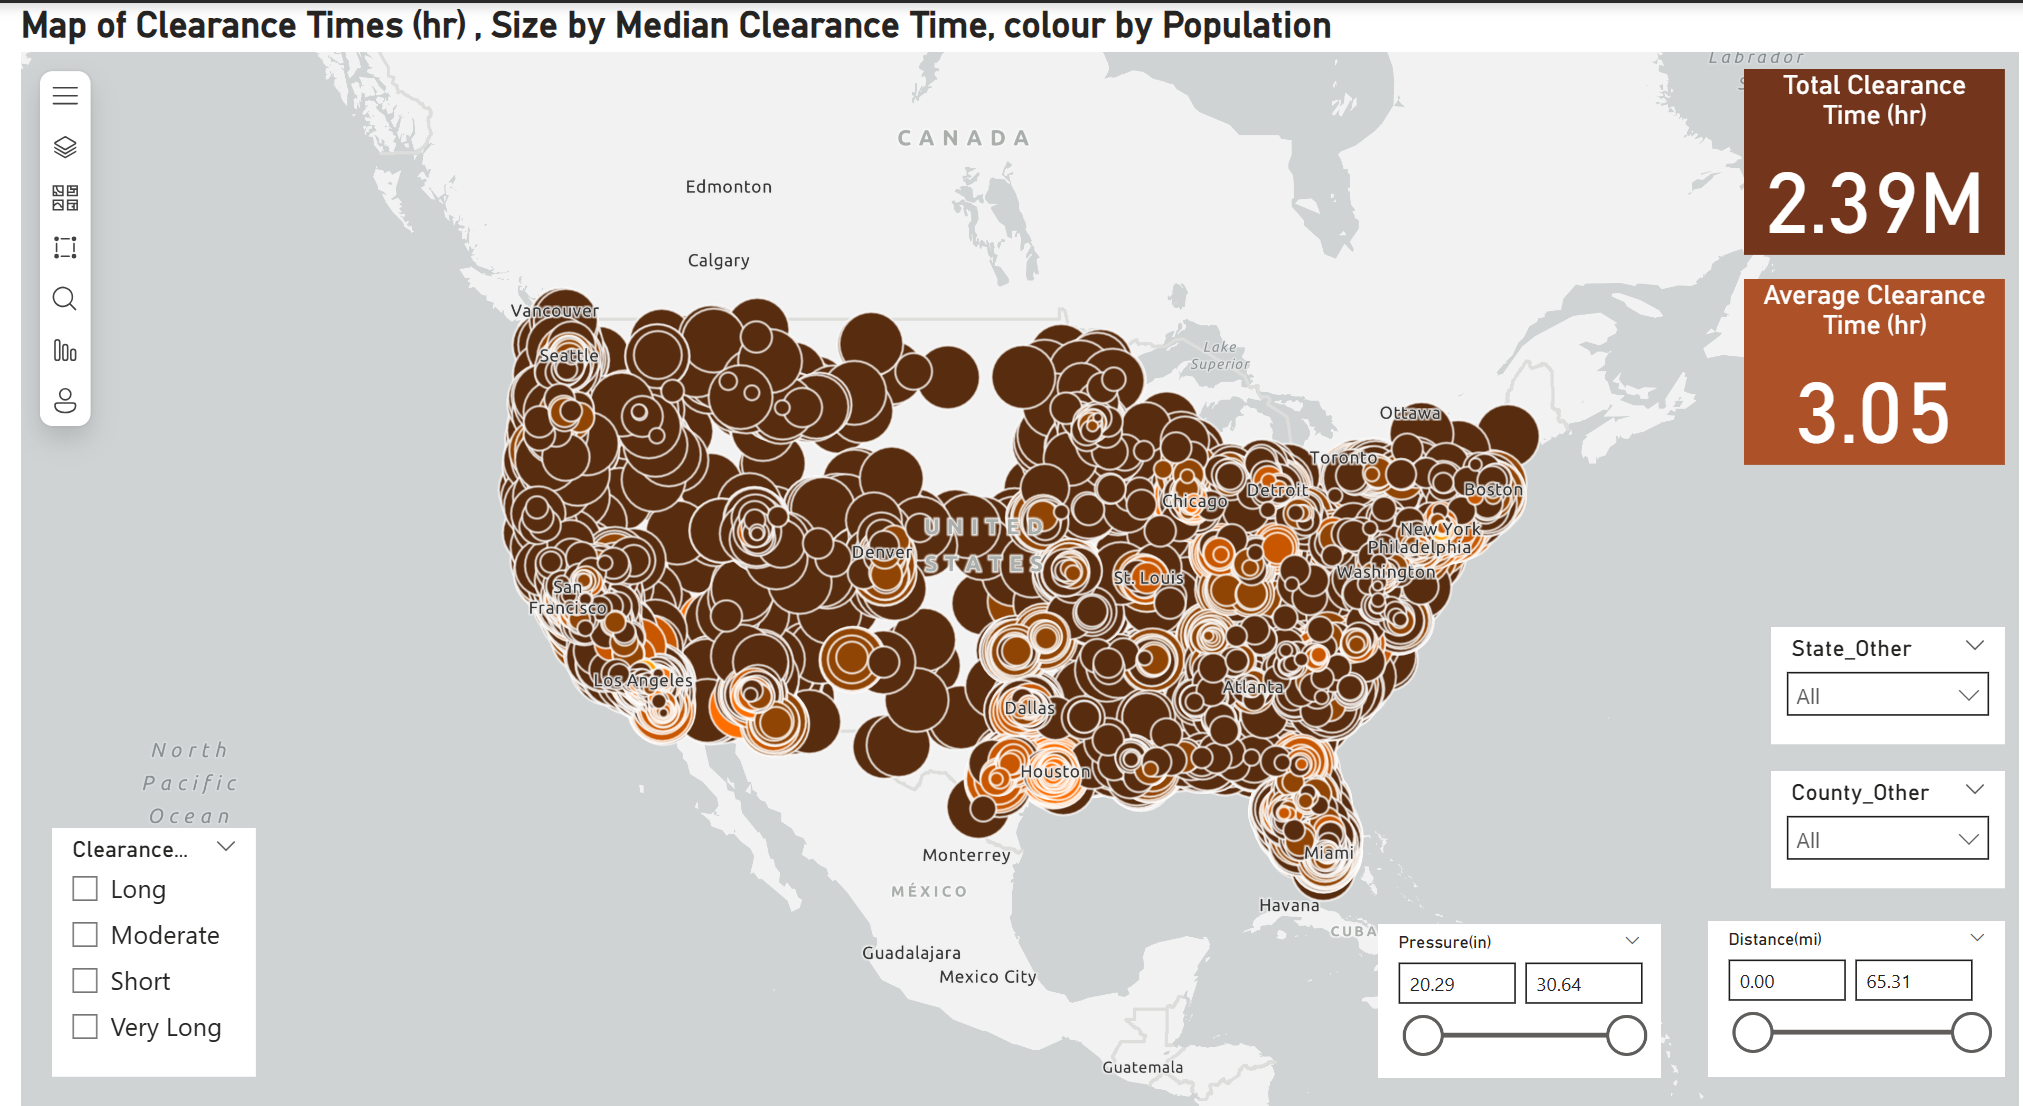

The page's visual inventory and layout, read from the dashboard file:
{"tool":"powerbi","page":{"name":"Map View","canvas":[1280,720],"ordinal":2},"visuals":[{"type":"esriVisual","title":"Map of Clearance Times (hr) , Size by Median Clearance Time, colour by Population","fields":{"Latitude":["US_Accidents_For_Dashboard.Start_Lat"],"Longitude":["US_Accidents_For_Dashboard.Start_Lng"],"Color":["Median(US_Accidents_For_Dashboard.Population)"],"Size":["Median(US_Accidents_For_Dashboard.Clearance_Time(hr))"]},"box":[9.5,0,1270.5,719.5],"z":0},{"type":"slicer","fields":{"Values":["US_Accidents_For_Dashboard.Clearance_Class"]},"box":[34.1,520.7,128.8,157.2],"z":1000},{"type":"slicer","fields":{"Values":["US_Accidents_For_Dashboard.State_Other"]},"box":[1119.1,393.8,147.7,73.8],"z":2000},{"type":"slicer","fields":{"Values":["US_Accidents_For_Dashboard.Distance(mi)"]},"box":[1079.3,579.4,187.5,98.5],"z":3000},{"type":"slicer","fields":{"Values":["US_Accidents_For_Dashboard.County_Other"]},"box":[1119.1,484.7,147.7,73.8],"z":4000},{"type":"card","title":"Total Clearance Time (hr)","fields":{"Values":["Sum(US_Accidents_For_Dashboard.Clearance_Time(hr))"]},"box":[876.7,56.8,164.7,117.4],"z":5000},{"type":"card","title":"Average Clearance Time (hr)","fields":{"Values":["Median(US_Accidents_For_Dashboard.Clearance_Time(hr))"]},"box":[1102,174.2,164.7,117.4],"z":6000},{"type":"slicer","fields":{"Values":["US_Accidents_For_Dashboard.Pressure(in)"]},"box":[871,581.3,178,96.6],"z":6001}]}

Visuals, with their boxes in screenshot pixels (x1, y1, x2, y2), scaled from the page's 1280x720 canvas onto the 2023x1106 screenshot:
"Map of Clearance Times (hr) , Size by Median Clearance Time, colour by Population" esriVisual: left=15, top=0, right=2022, bottom=1105
slicer - US_Accidents_For_Dashboard.Clearance_Class: left=54, top=800, right=257, bottom=1041
slicer - US_Accidents_For_Dashboard.State_Other: left=1769, top=605, right=2002, bottom=718
slicer - US_Accidents_For_Dashboard.Distance(mi): left=1706, top=890, right=2002, bottom=1041
slicer - US_Accidents_For_Dashboard.County_Other: left=1769, top=745, right=2002, bottom=858
"Total Clearance Time (hr)" card: left=1386, top=87, right=1646, bottom=268
"Average Clearance Time (hr)" card: left=1742, top=268, right=2002, bottom=448
slicer - US_Accidents_For_Dashboard.Pressure(in): left=1377, top=893, right=1658, bottom=1041
